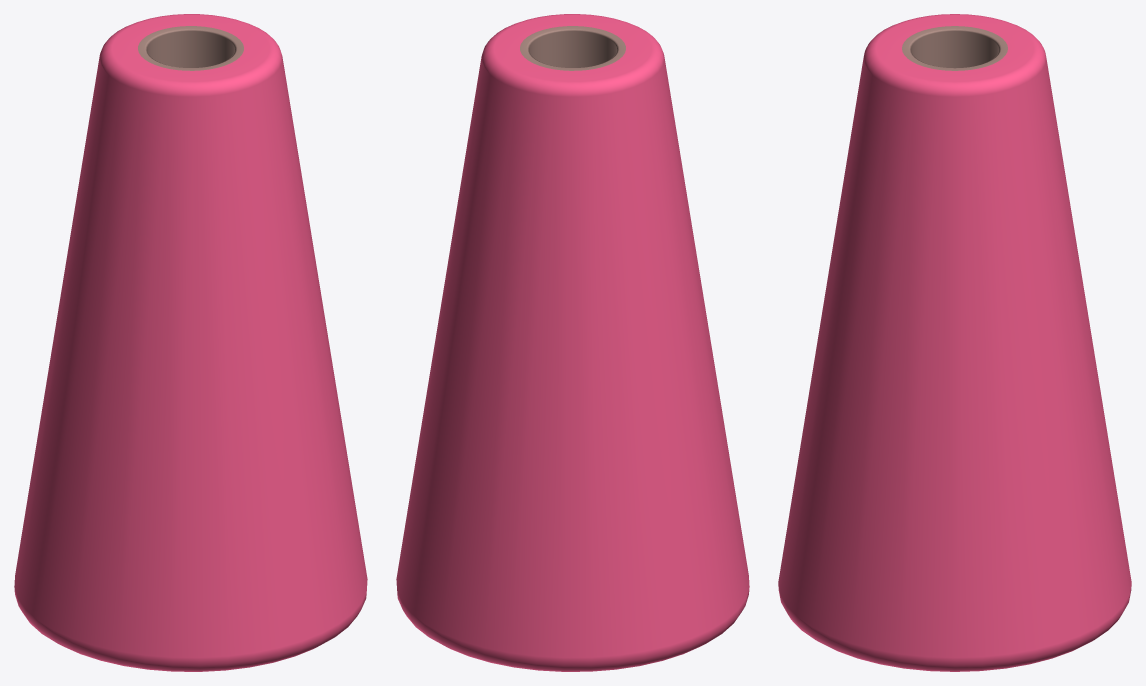
Rendered from Public_19_Big_Skein_of_thread_2.glb.
The picture shows the model from 3 angles, left to right: view 1: azimuth 30°, elevation 25°; view 2: azimuth 150°, elevation 25°; view 3: azimuth 270°, elevation 25°; orthographic projection.
Visible parts, largest first — view 1: Public_19_Big_Skein_of_thread_2; view 2: Public_19_Big_Skein_of_thread_2; view 3: Public_19_Big_Skein_of_thread_2.
Boxes of the visible parts, x1,y1,x2,y2 form: Public_19_Big_Skein_of_thread_2: (14, 14, 367, 671); Public_19_Big_Skein_of_thread_2: (396, 14, 749, 671); Public_19_Big_Skein_of_thread_2: (778, 14, 1131, 671).
Size of the model in its own units: 1.05 by 1.82 by 1.05.
Materials: 1 (1 with a texture image).
